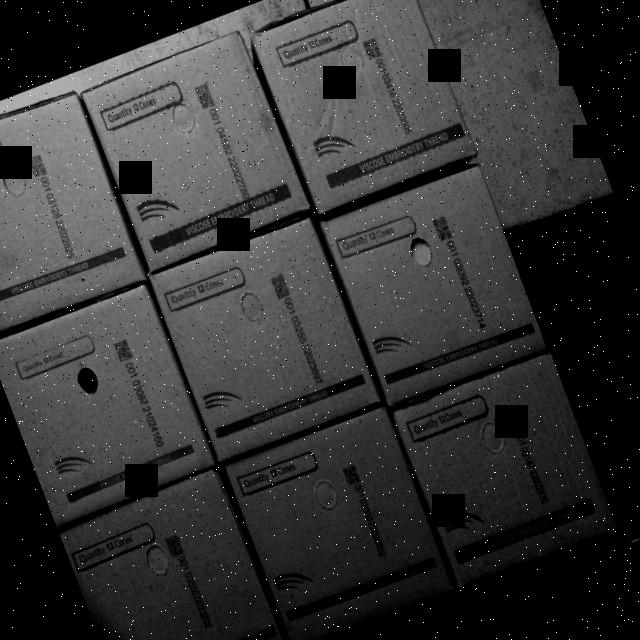box: (150, 217, 382, 458), (82, 28, 310, 272), (322, 165, 550, 406), (391, 350, 618, 588), (225, 405, 453, 640), (0, 281, 215, 519), (253, 0, 477, 208), (58, 470, 285, 640), (0, 83, 148, 341)
